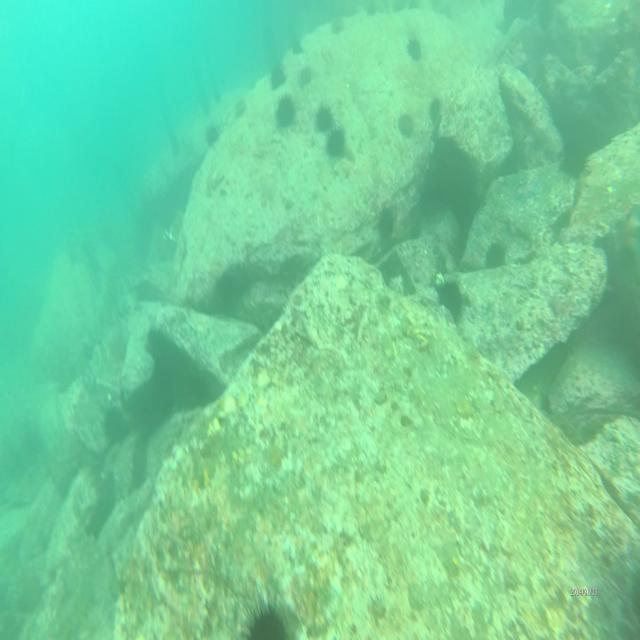echinus: (236, 589, 294, 640), (436, 278, 466, 328), (101, 403, 130, 444), (275, 89, 299, 135), (376, 204, 396, 252), (326, 119, 347, 163), (202, 114, 224, 154), (394, 109, 418, 142), (483, 241, 508, 272), (266, 57, 288, 92), (404, 32, 423, 68), (316, 101, 336, 132), (428, 90, 445, 126), (297, 62, 317, 85), (232, 95, 250, 120), (364, 0, 382, 22), (330, 14, 346, 38), (293, 31, 305, 57)
